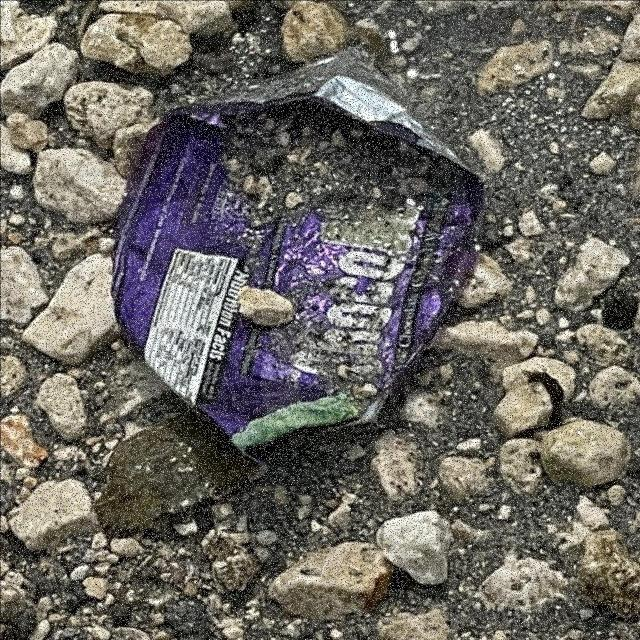plastic_waste: (111, 55, 492, 454)
